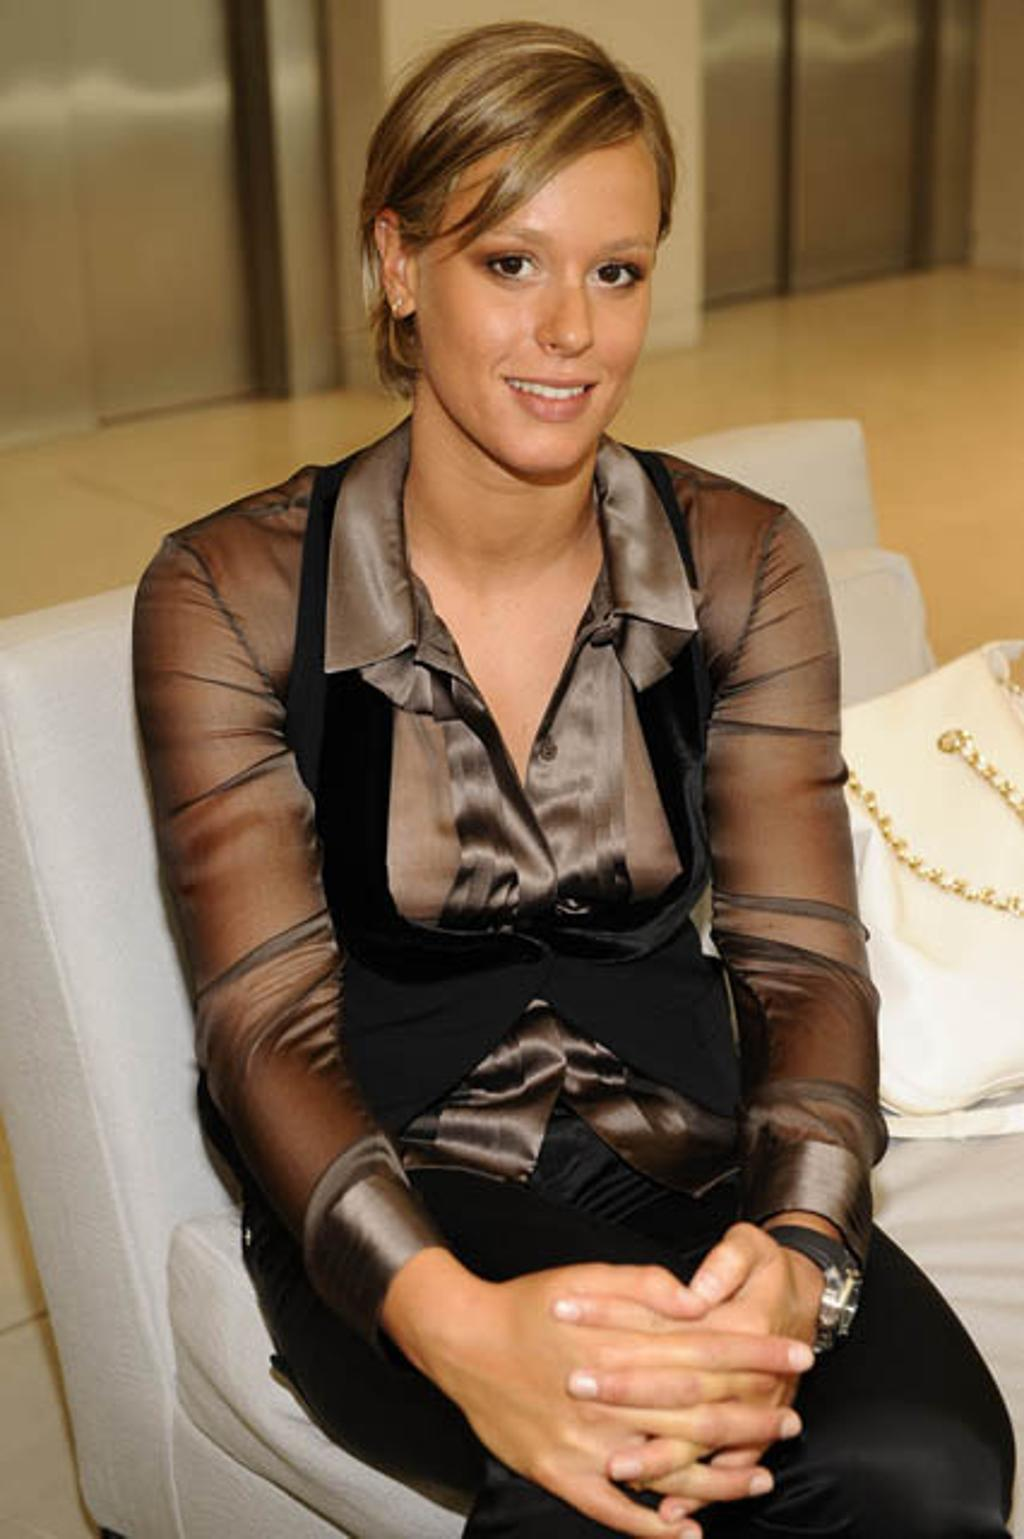face: (436, 139, 655, 472)
